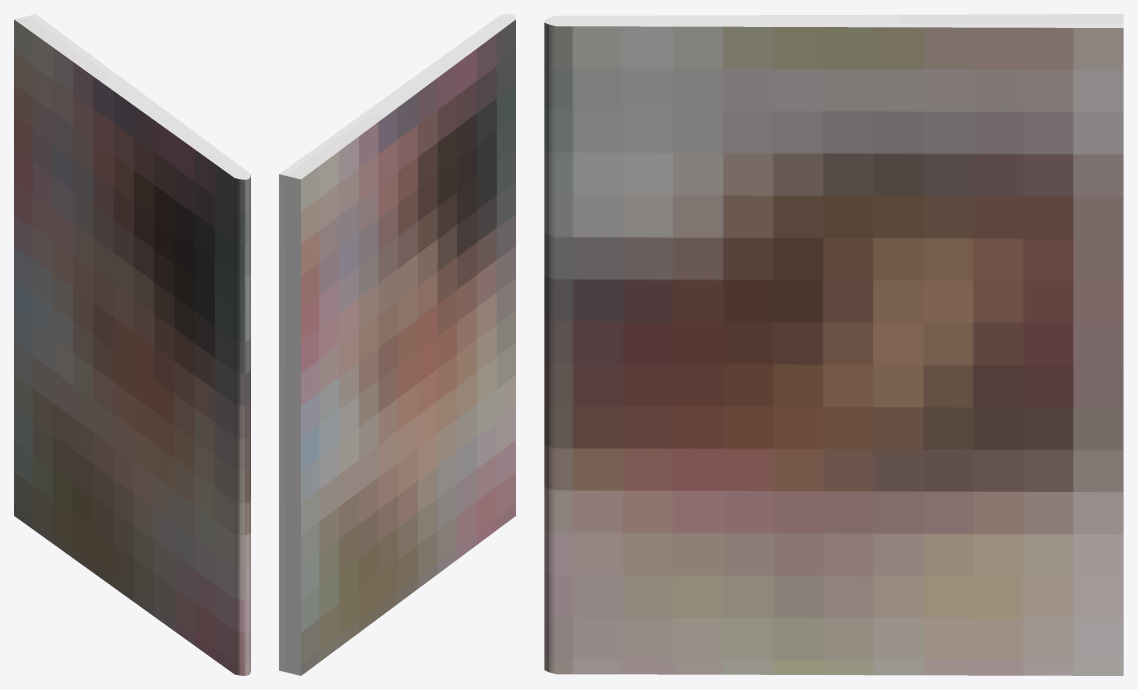
File: erotsu2.fbx
The picture shows the model from 3 angles, left to right: view 1: azimuth 30°, elevation 25°; view 2: azimuth 150°, elevation 25°; view 3: azimuth 270°, elevation 25°; orthographic projection. The views are drawn at different scales.
Parts seen in each view (by area): view 1: erotsu2; view 2: erotsu2; view 3: erotsu2.
Boxes of the visible parts, x1,y1,x2,y2 form: erotsu2: (14, 14, 250, 675); erotsu2: (279, 14, 515, 675); erotsu2: (544, 14, 1123, 675).
Bounding box in the file's own units: 1.2 × 25.8 × 20.92.
